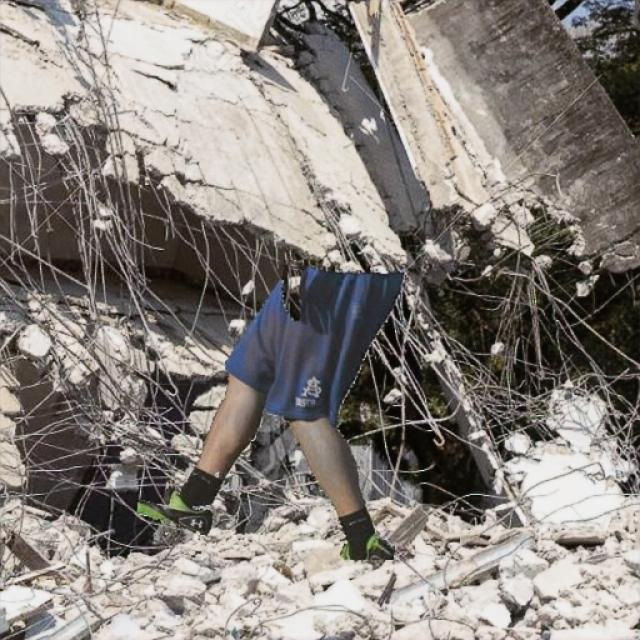Person in Rubble: (137, 257, 405, 558)
